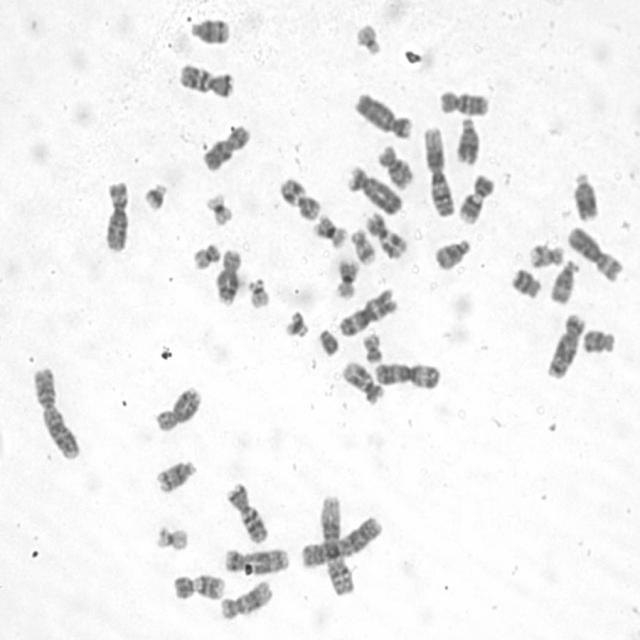A1: (319, 493, 357, 598), (422, 128, 456, 218)
A2: (32, 367, 82, 462), (298, 517, 384, 570)
A3: (339, 288, 398, 338), (374, 363, 442, 390)
B4: (348, 164, 404, 217), (353, 93, 413, 140)
B5: (546, 312, 586, 382), (222, 548, 291, 576)
C10: (377, 145, 416, 192), (438, 90, 491, 118)
C11: (366, 211, 410, 261), (278, 176, 322, 222)
C12: (220, 580, 276, 622), (342, 361, 387, 406)
C6: (568, 225, 625, 282), (102, 180, 132, 254)
C7: (226, 482, 270, 545), (177, 64, 236, 98)
C8: (155, 385, 202, 436), (214, 248, 242, 308)
C9: (457, 174, 496, 225), (173, 572, 226, 602)
D13: (573, 172, 600, 222), (456, 116, 482, 165)
D14: (154, 458, 199, 495), (190, 18, 230, 48)
D15: (549, 258, 580, 304), (432, 238, 472, 272)
E16: (310, 213, 348, 251), (334, 259, 360, 300)
E17: (349, 228, 377, 266), (528, 243, 566, 269)
E18: (511, 266, 544, 300), (582, 330, 616, 354)
F19: (154, 526, 191, 554), (206, 193, 236, 227)
F20: (192, 242, 222, 272), (361, 333, 385, 363)
G21: (284, 310, 310, 340), (142, 182, 168, 211)
G22: (355, 22, 382, 56), (248, 277, 272, 309)
X: (200, 124, 254, 175)
Y: (318, 326, 340, 358)
